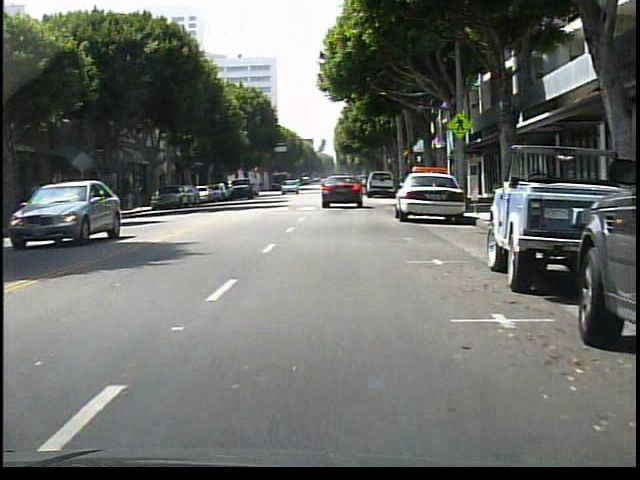person: (31, 179, 53, 226)
